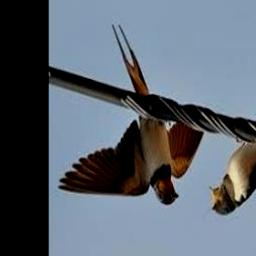Swallow: (59, 25, 205, 205), (209, 94, 256, 214)
